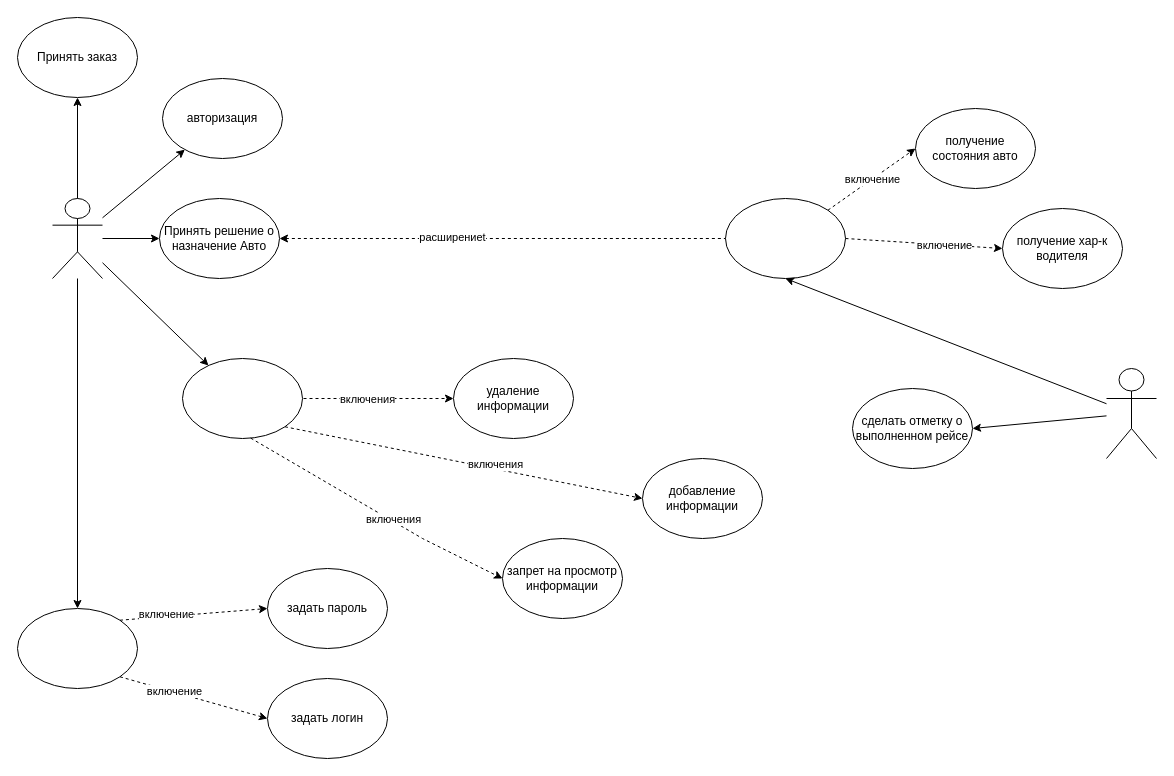
The diagram is 1174 pixels wide and 776 high, and some of its shapes have lost their labels. The shapes that lost their labels are listed below. From the top down, each one's centre as x and y in pixels, then its label:
At (x=77, y=238): "Диспетчер".
At (x=785, y=238): "Сведения о состоянии авто и водителя".
At (x=242, y=398): "Управление информацией".
At (x=1131, y=413): "водитель".
At (x=77, y=648): "регистрация пользователя".
